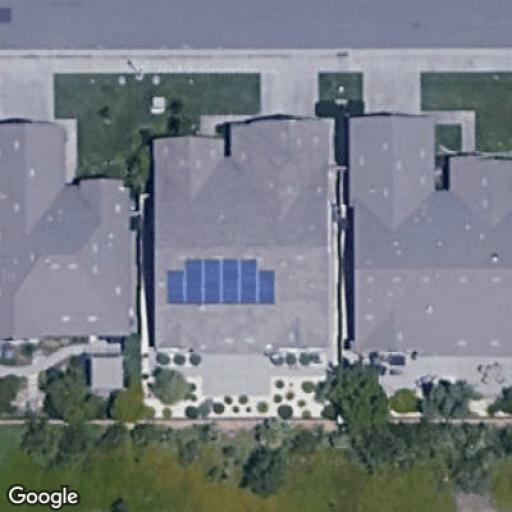solar-panel: (164, 255, 278, 306)
